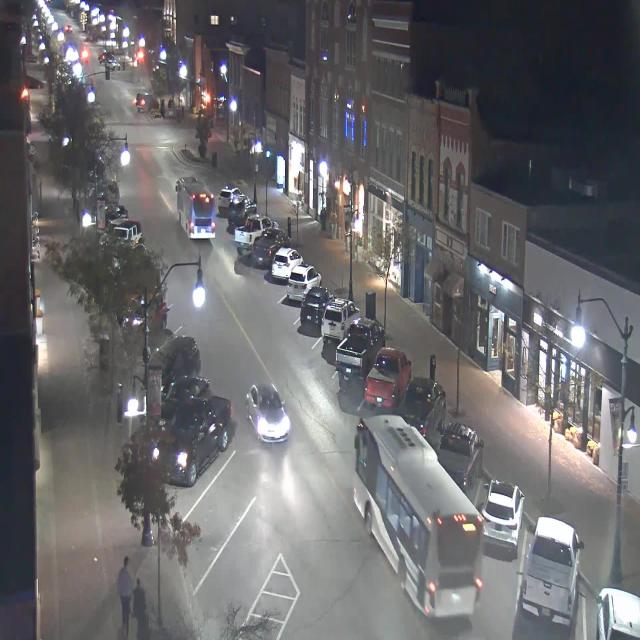available: (220, 486, 302, 582), (205, 440, 260, 519)
occupied: (520, 514, 584, 627), (158, 391, 242, 475), (479, 478, 525, 558), (335, 319, 390, 384), (437, 420, 483, 492), (395, 375, 446, 439), (363, 346, 412, 410), (150, 326, 205, 376), (596, 586, 640, 639), (158, 367, 214, 405), (322, 295, 362, 346), (251, 229, 288, 269), (300, 285, 336, 326), (233, 211, 269, 252), (286, 262, 322, 302), (272, 251, 304, 285), (228, 194, 258, 230), (218, 186, 242, 214)
